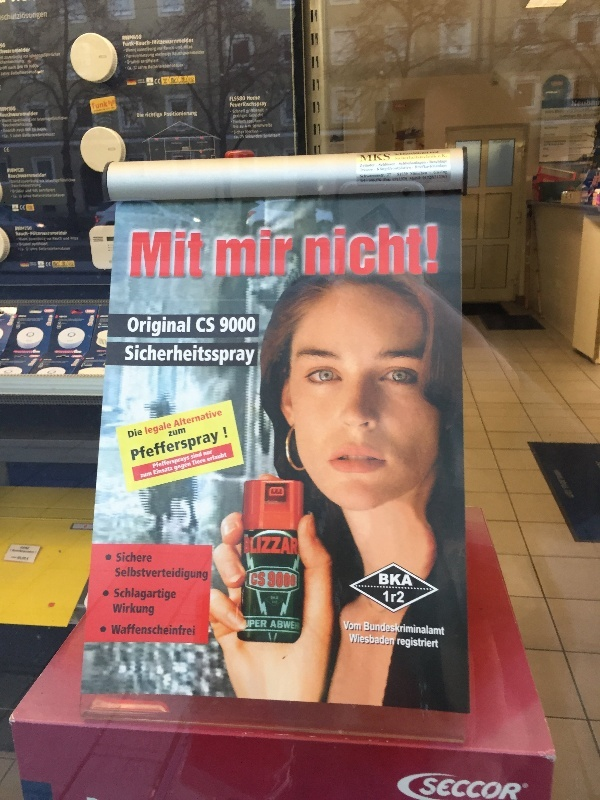text: (305, 221, 320, 278), (321, 221, 336, 278), (337, 221, 352, 278), (353, 221, 368, 278), (369, 221, 384, 278), (385, 221, 400, 278), (401, 221, 416, 278), (417, 221, 432, 278), (577, 108, 592, 162), (145, 228, 160, 280), (161, 228, 176, 280), (177, 228, 192, 280), (225, 230, 240, 280), (241, 230, 256, 280), (257, 230, 272, 280), (273, 230, 288, 280), (545, 109, 560, 158), (131, 228, 144, 280), (129, 29, 144, 71), (145, 29, 160, 71), (161, 29, 176, 71), (177, 29, 192, 71), (193, 228, 205, 280), (433, 147, 449, 185), (241, 101, 256, 140), (257, 101, 272, 140), (369, 147, 384, 185), (385, 147, 400, 185), (401, 147, 416, 185), (417, 147, 432, 185), (1, 41, 16, 79), (17, 41, 32, 79), (33, 41, 48, 79), (193, 29, 206, 71), (1, 104, 16, 139), (17, 104, 32, 139), (33, 104, 48, 139), (49, 104, 64, 139), (17, 166, 32, 199), (33, 166, 48, 199), (49, 166, 64, 199), (145, 429, 160, 461), (161, 429, 176, 461), (177, 429, 192, 461), (193, 429, 208, 461), (49, 41, 61, 79), (130, 429, 144, 461), (216, 230, 224, 280), (561, 109, 569, 158), (230, 101, 240, 140), (433, 774, 448, 800), (449, 774, 464, 800), (465, 774, 480, 800), (481, 774, 496, 800), (497, 774, 512, 800), (129, 344, 144, 369), (145, 344, 160, 369), (161, 344, 176, 369), (177, 344, 192, 369), (193, 344, 208, 369), (209, 344, 224, 369), (225, 344, 240, 369), (241, 344, 256, 369), (17, 226, 32, 251), (33, 226, 48, 251), (49, 226, 64, 251), (65, 166, 76, 199), (129, 315, 144, 339), (145, 315, 160, 339), (161, 315, 176, 339), (177, 315, 192, 339), (65, 226, 79, 251), (433, 221, 439, 278), (359, 147, 368, 185), (257, 536, 272, 558), (273, 536, 288, 558), (593, 108, 599, 162), (273, 101, 281, 140), (241, 315, 257, 334), (177, 408, 192, 428), (193, 408, 208, 428), (7, 166, 16, 199), (121, 29, 128, 71), (209, 429, 218, 461), (193, 565, 209, 583), (225, 315, 240, 334), (273, 571, 288, 590), (209, 408, 223, 428), (129, 565, 144, 583), (145, 565, 160, 583), (161, 565, 176, 583), (177, 565, 192, 583), (244, 536, 256, 558), (161, 588, 177, 604), (289, 230, 294, 280), (145, 421, 160, 437), (369, 622, 384, 638), (385, 622, 400, 638), (401, 622, 416, 638), (417, 622, 432, 638), (113, 588, 128, 604), (129, 588, 144, 604), (145, 588, 160, 604), (113, 602, 128, 618), (129, 602, 144, 618), (17, 545, 32, 561), (513, 774, 522, 800), (385, 591, 400, 606), (289, 536, 299, 558), (196, 317, 208, 335), (116, 565, 128, 583), (572, 108, 576, 162), (161, 455, 176, 469), (385, 574, 400, 588), (113, 624, 128, 638), (129, 624, 144, 638), (145, 624, 160, 638), (161, 624, 176, 638), (177, 624, 192, 638), (353, 634, 368, 647), (369, 634, 384, 647), (401, 638, 416, 651), (417, 638, 432, 651), (129, 552, 144, 565), (273, 620, 288, 633), (433, 622, 445, 638), (177, 455, 190, 469), (401, 574, 414, 588), (161, 421, 172, 437), (129, 427, 143, 439), (209, 451, 224, 462), (1, 11, 16, 22), (17, 11, 32, 22), (33, 11, 48, 22), (145, 602, 155, 618), (116, 552, 128, 565), (289, 620, 301, 633), (177, 462, 192, 472), (257, 572, 266, 588), (65, 104, 69, 139), (369, 154, 384, 163), (289, 571, 296, 590), (244, 619, 256, 630), (385, 634, 395, 647), (257, 619, 268, 630), (161, 466, 173, 476), (145, 110, 160, 118), (161, 110, 176, 118), (177, 110, 192, 118), (97, 100, 109, 110), (193, 457, 206, 466), (343, 620, 352, 633), (353, 620, 362, 633), (152, 455, 160, 469), (177, 427, 187, 438), (209, 317, 215, 335), (577, 100, 592, 107), (428, 774, 432, 800), (33, 545, 39, 561), (145, 552, 152, 565), (193, 451, 203, 460), (168, 427, 176, 438), (378, 574, 384, 588), (251, 572, 256, 588), (433, 638, 439, 651), (220, 315, 224, 334), (268, 571, 272, 590), (125, 344, 128, 369), (153, 466, 160, 476), (364, 622, 368, 638), (12, 545, 16, 561), (361, 154, 368, 163), (230, 96, 240, 102), (401, 591, 405, 606), (348, 634, 352, 647), (14, 226, 16, 251), (145, 472, 152, 479), (593, 100, 600, 107), (126, 315, 128, 339), (247, 96, 256, 101), (385, 154, 390, 163), (137, 113, 144, 119), (193, 624, 196, 638), (193, 110, 198, 118), (92, 100, 96, 110), (225, 426, 228, 439), (397, 638, 400, 651), (203, 450, 208, 457), (155, 78, 160, 85), (225, 451, 228, 462), (241, 96, 246, 102), (382, 591, 384, 606), (140, 472, 144, 479), (209, 450, 213, 457), (572, 100, 576, 107), (222, 426, 224, 439), (175, 408, 176, 428), (174, 462, 176, 472), (257, 96, 261, 101), (190, 451, 192, 460), (111, 624, 112, 638), (207, 451, 208, 462)
